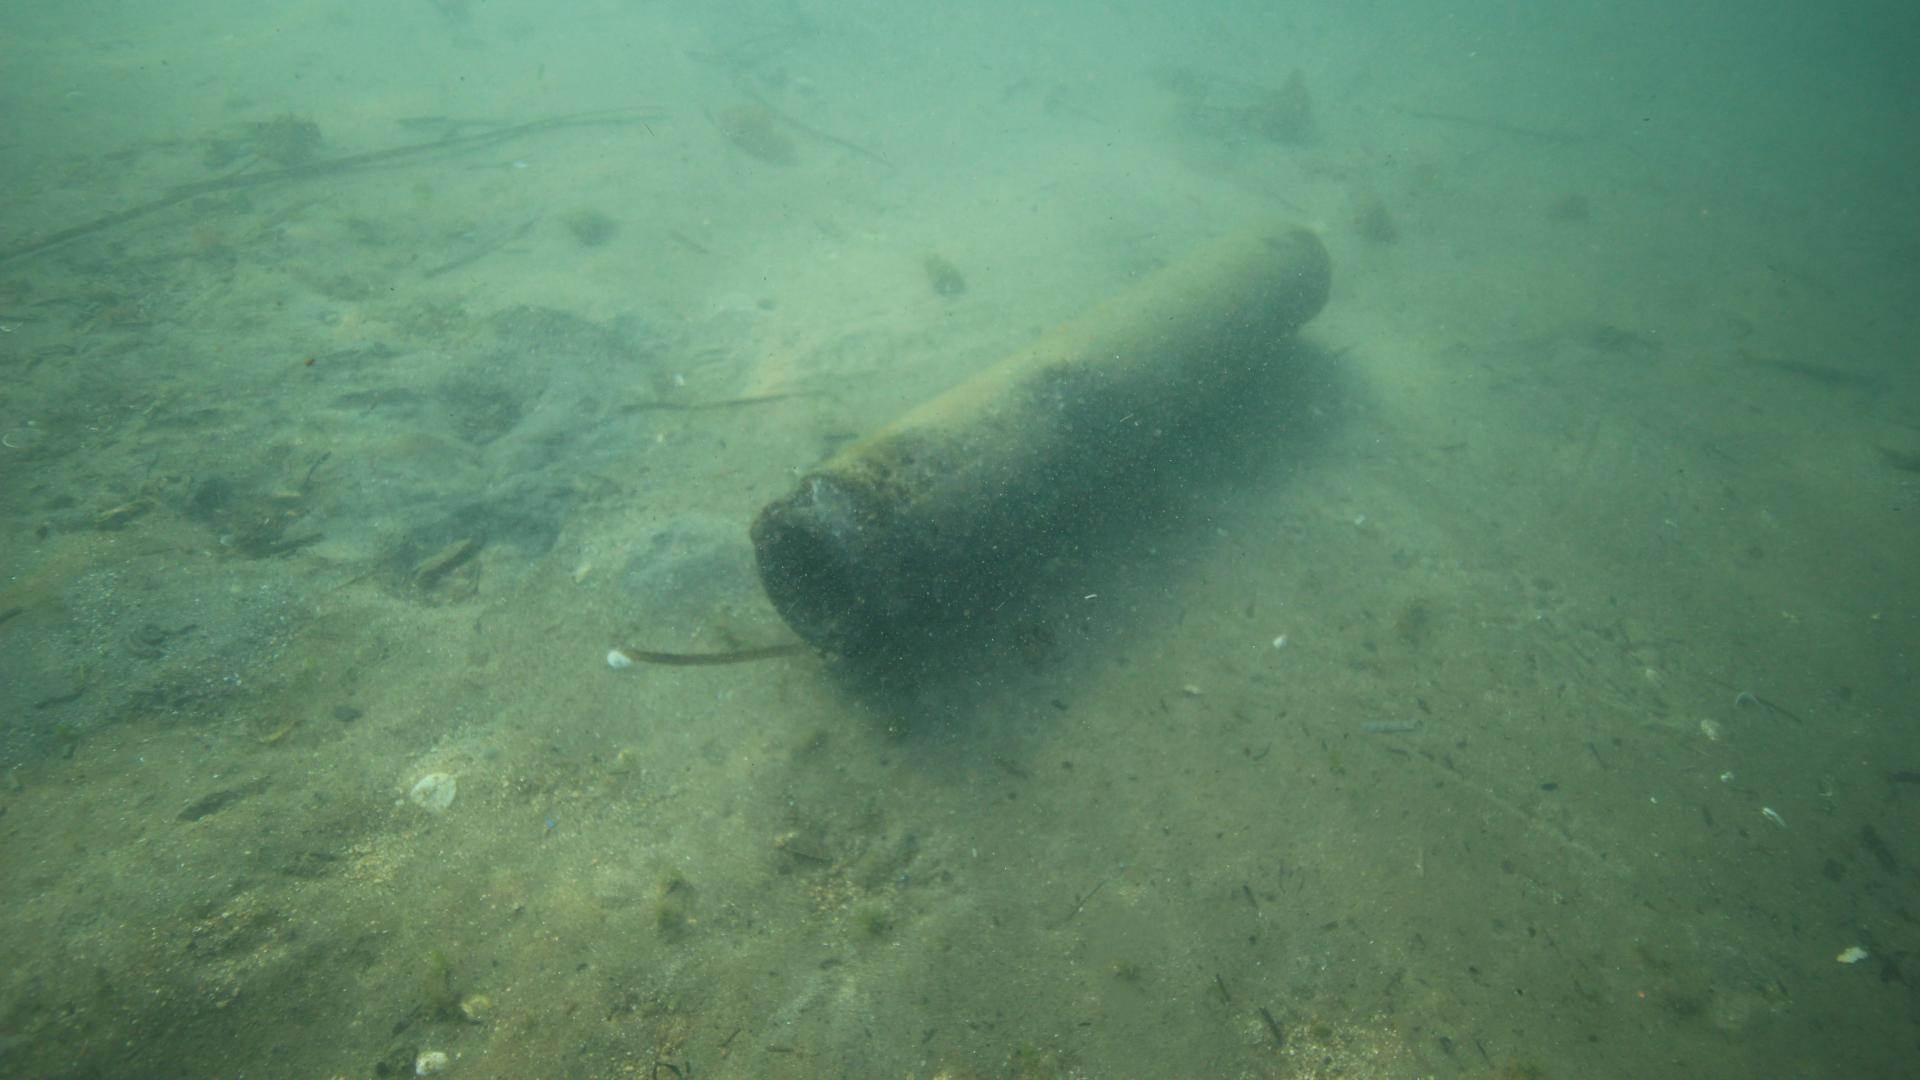eel fish trap: (750, 225, 1328, 655)
